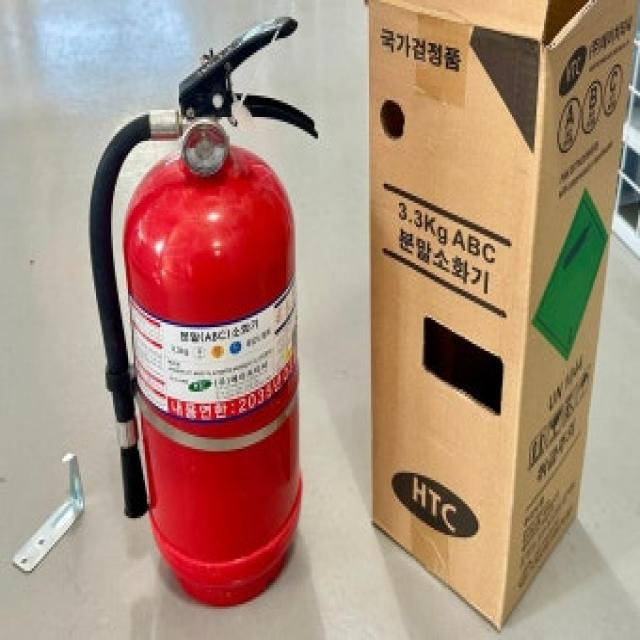pressure gauge: (183, 120, 229, 176)
